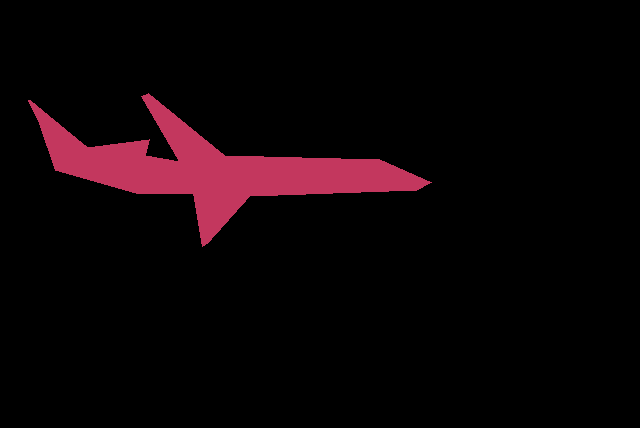Airplane: (28, 93, 432, 247)
